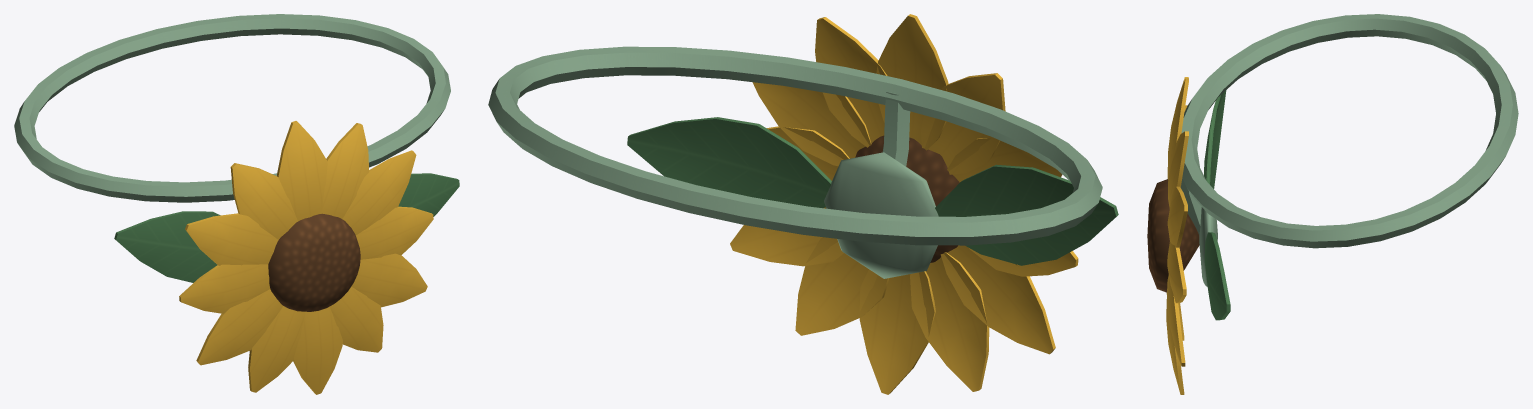
The model's file is KD_SunflowerNecklace_Set.fbx.
The picture shows the model from 3 angles, left to right: view 1: azimuth 30°, elevation 25°; view 2: azimuth 150°, elevation 25°; view 3: azimuth 270°, elevation 25°; orthographic projection. The views are drawn at different scales.
Parts seen in each view (by area): view 1: KD_SunflowerNecklace_Set; view 2: KD_SunflowerNecklace_Set; view 3: KD_SunflowerNecklace_Set.
Part boxes in pixels (x1,y1,x2,y2): KD_SunflowerNecklace_Set: (14,14,459,394); KD_SunflowerNecklace_Set: (488,14,1118,394); KD_SunflowerNecklace_Set: (1147,14,1518,394).
Size of the model in its own units: 0.161 by 0.1038 by 0.1155.
Materials: 1 (1 with a texture image).
